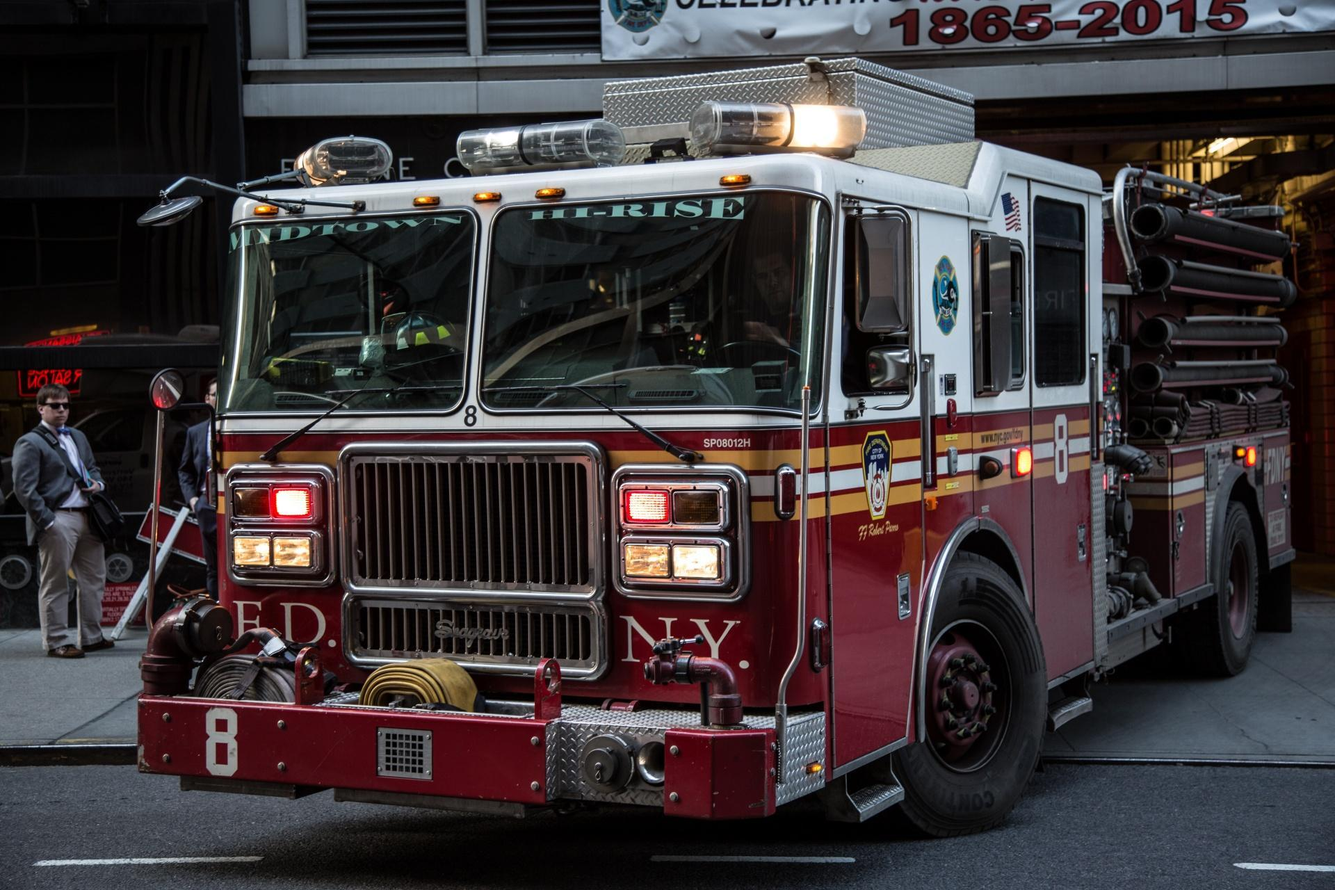Fire-engine: (132, 57, 1296, 839)
